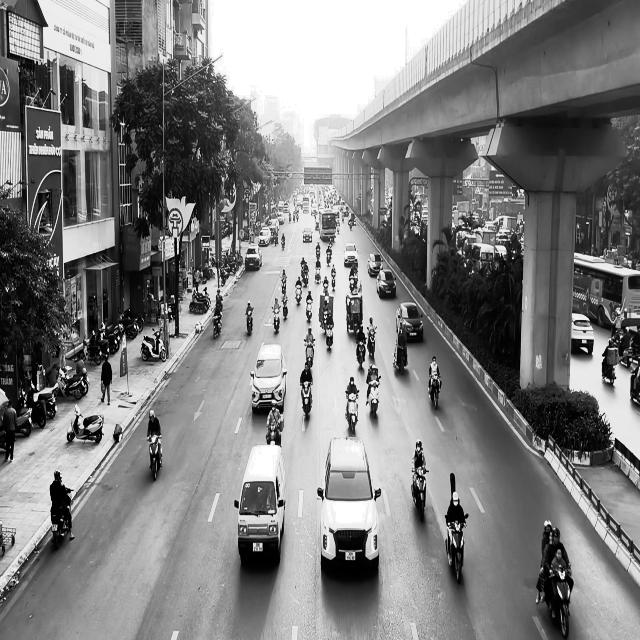bus: (572, 252, 640, 330)
car: (317, 436, 381, 570), (234, 443, 286, 565), (249, 342, 287, 412), (396, 302, 423, 342), (571, 312, 594, 354), (376, 269, 396, 298), (367, 252, 383, 276), (344, 242, 358, 266), (302, 226, 312, 242)
motorbike: (444, 513, 468, 583), (66, 403, 104, 444), (50, 488, 74, 549), (411, 466, 429, 521), (140, 329, 167, 361), (146, 433, 162, 481), (366, 376, 381, 418), (345, 389, 359, 433), (428, 371, 441, 409), (300, 380, 313, 418), (303, 339, 315, 369), (356, 338, 366, 368), (324, 321, 334, 349), (212, 312, 222, 338), (271, 306, 280, 332), (245, 310, 253, 335), (305, 299, 313, 321), (282, 294, 288, 319)
